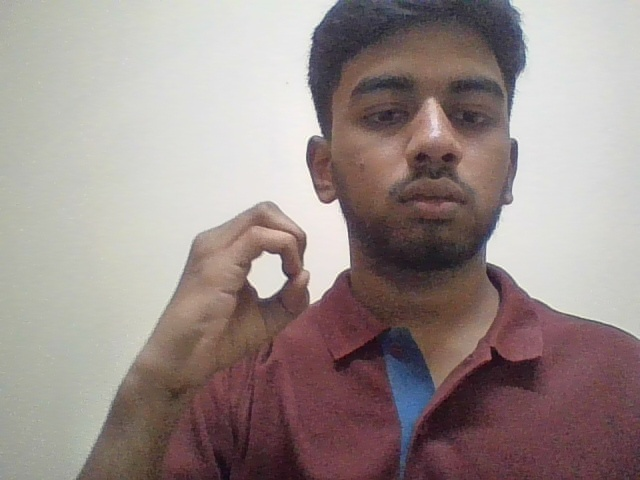O: (126, 188, 323, 399)
